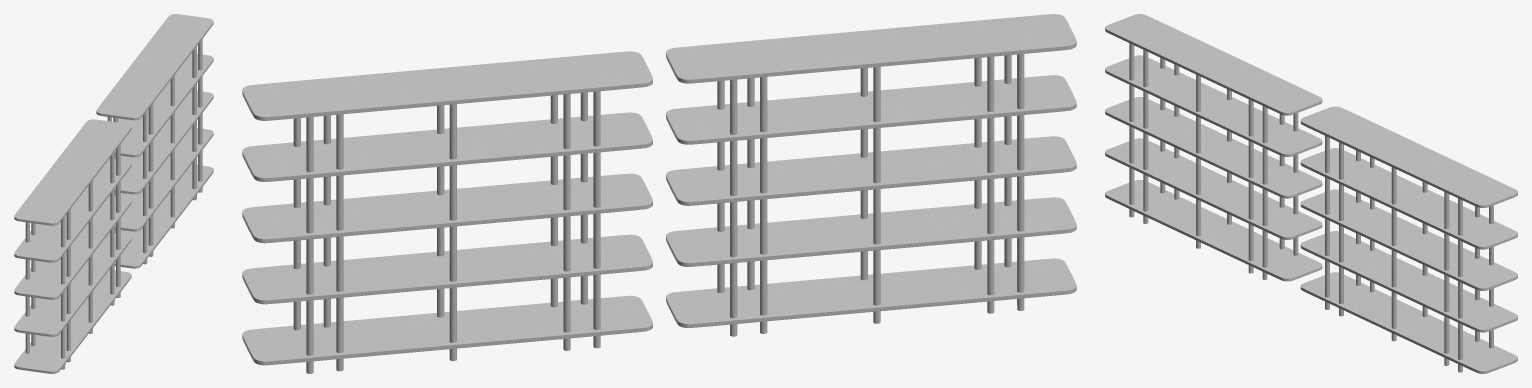
Rendered from shelves.glb.
The picture shows the model from 3 angles, left to right: view 1: azimuth 30°, elevation 25°; view 2: azimuth 150°, elevation 25°; view 3: azimuth 270°, elevation 25°; orthographic projection. The views are drawn at different scales.
Visible parts, largest first — view 1: Aero Shelving - High.001; view 2: Aero Shelving - High.001; view 3: Aero Shelving - High.001.
Boxes of the visible parts, x1=… form: Aero Shelving - High.001: x1=14, y1=14, x2=213, y2=373; Aero Shelving - High.001: x1=242, y1=14, x2=1076, y2=373; Aero Shelving - High.001: x1=1105, y1=14, x2=1517, y2=373.
Bounding box in the file's own units: 62.43 × 27.1 × 56.88.
6 materials, 6 textured.
